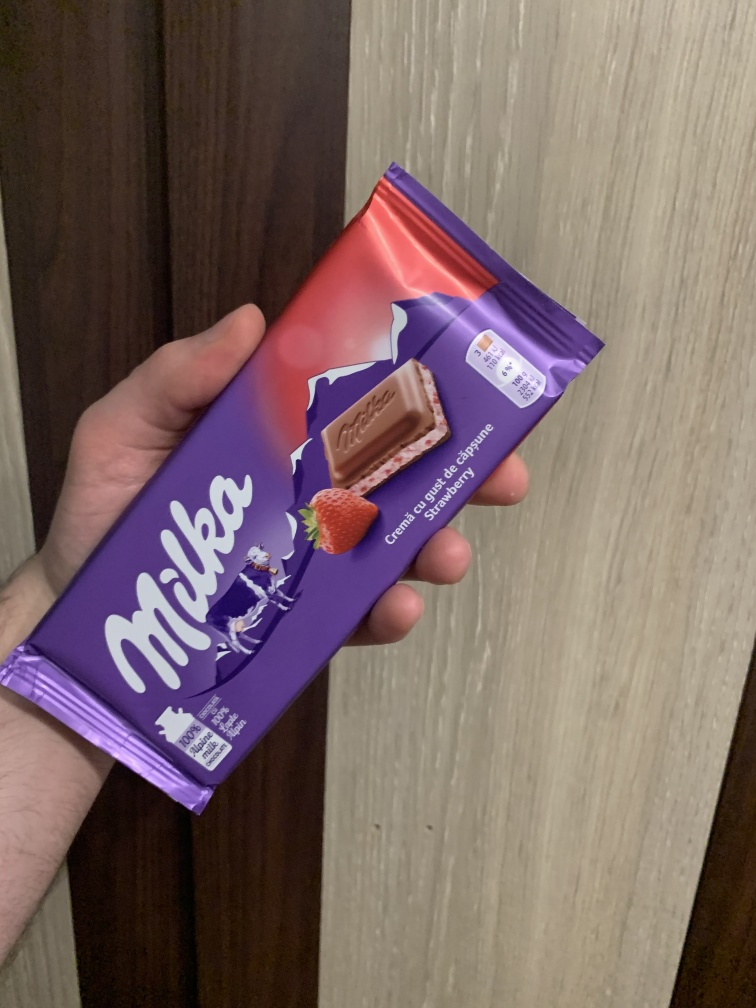milka: (20, 156, 612, 818)
